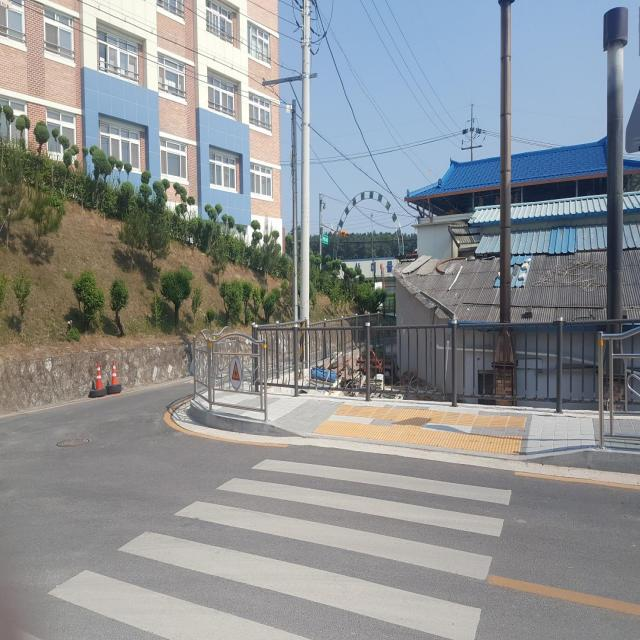횡단보도: (14, 456, 514, 639)
